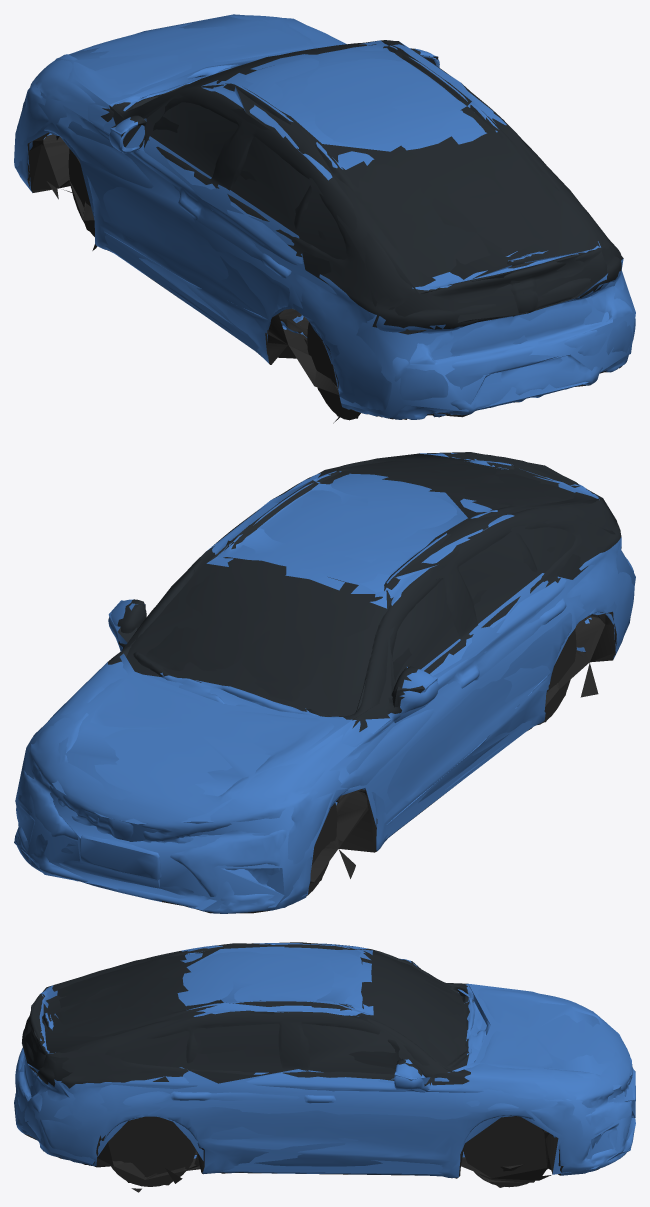
File: honda-civic.glb
3 renders of one model, top to bottom at view 1: azimuth 30°, elevation 25°; view 2: azimuth 150°, elevation 25°; view 3: azimuth 270°, elevation 25°, orthographic. The views are drawn at different scales.
Visible parts, largest first — view 1: body, far; view 2: body, far; view 3: body, far.
Boxes of the visible parts, x1,y1,x2,y2 form: body: (15, 15, 635, 423); far: (14, 14, 635, 418); body: (14, 452, 634, 913); far: (14, 452, 635, 910); body: (15, 943, 635, 1192); far: (14, 942, 635, 1190).
Bounding box in the file's own units: 2.1 × 1.48 × 4.69.
